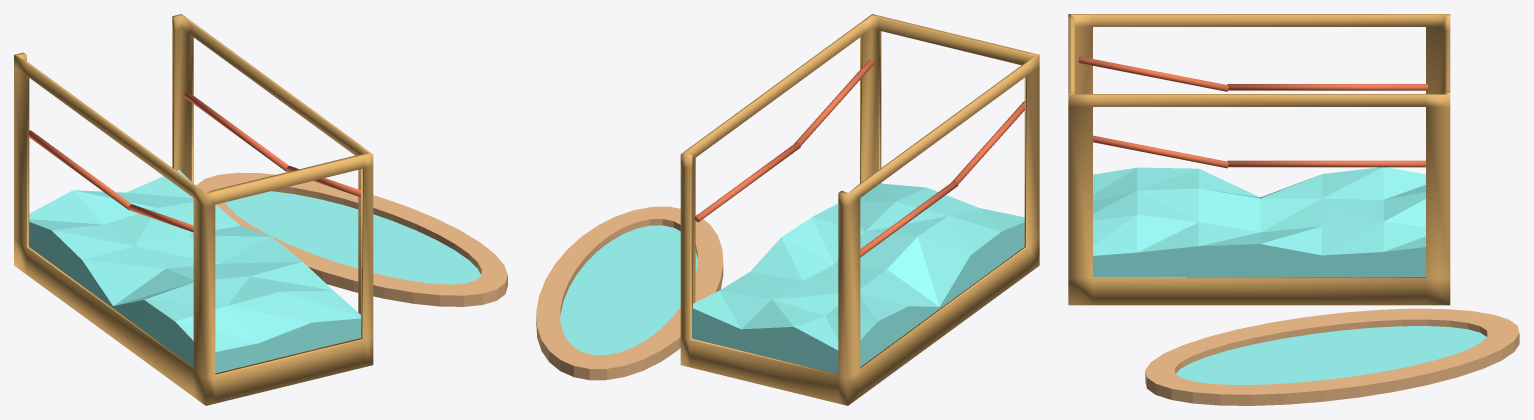
The model's file is WaterTreadmill.fbx.
3 views of the same model, side by side, from view 1: azimuth 30°, elevation 25°; view 2: azimuth 150°, elevation 25°; view 3: azimuth 270°, elevation 25° (orthographic).
Visible parts, largest first — view 1: WaterTreadmill; view 2: WaterTreadmill; view 3: WaterTreadmill.
Boxes of the visible parts, x1,y1,x2,y2 form: WaterTreadmill: (14, 14, 507, 405); WaterTreadmill: (536, 14, 1039, 405); WaterTreadmill: (1068, 14, 1519, 405).
Size of the model in its own units: 252 by 141 by 270.
